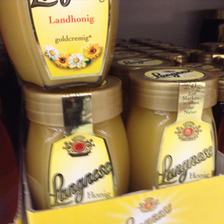honey: (22, 76, 131, 207), (129, 66, 219, 193)
